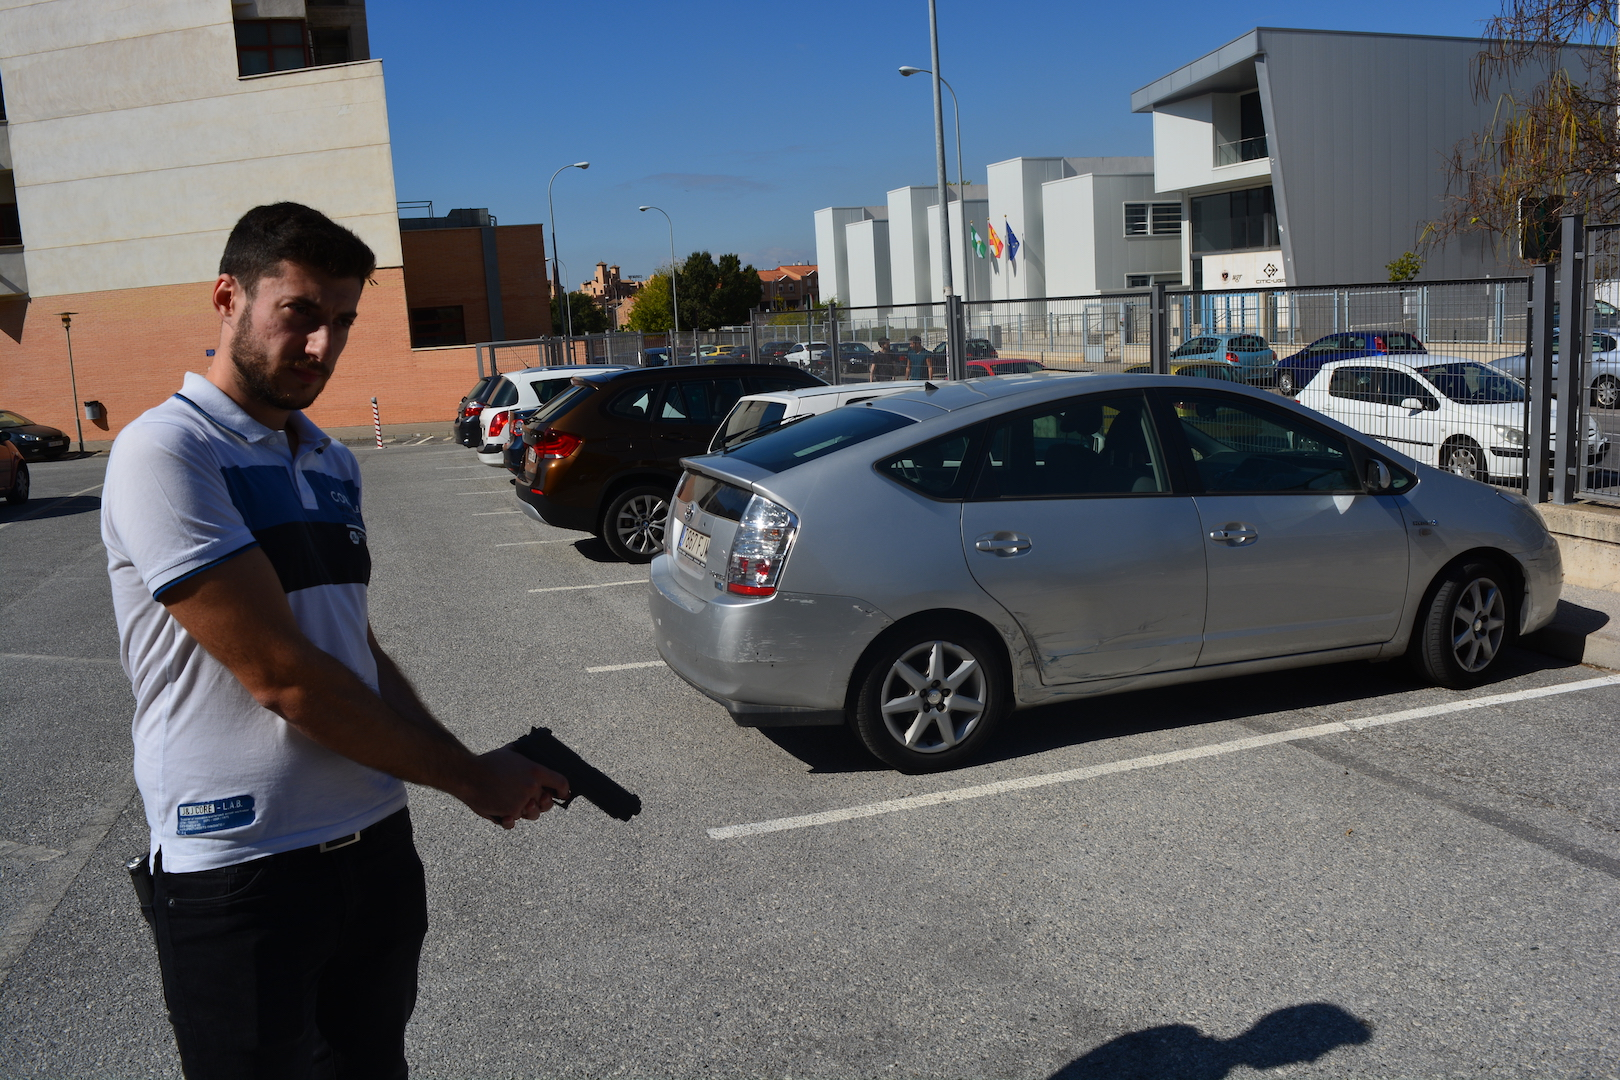pistol: (509, 723, 642, 823)
